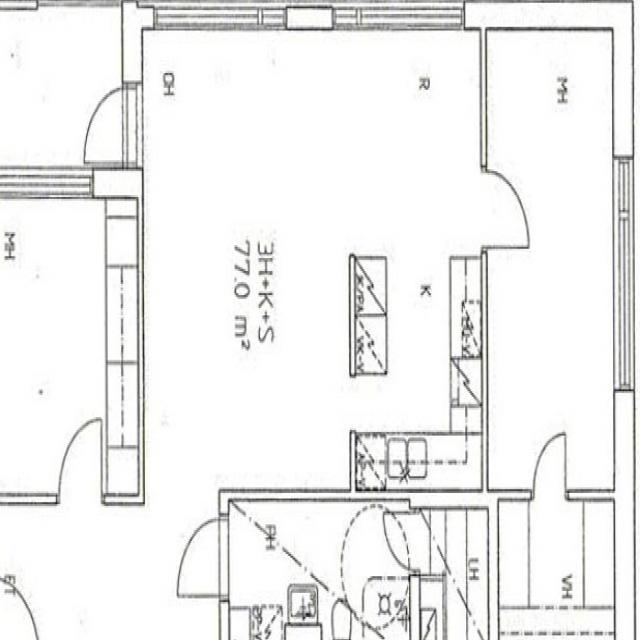door: (82, 88, 142, 161), (175, 518, 229, 596), (59, 419, 102, 504), (483, 170, 531, 246), (0, 575, 40, 640), (379, 513, 422, 571), (534, 433, 566, 499)
